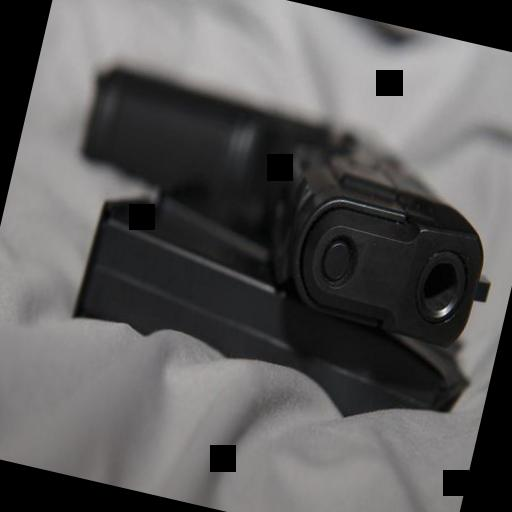Handgun: (51, 48, 512, 358)
